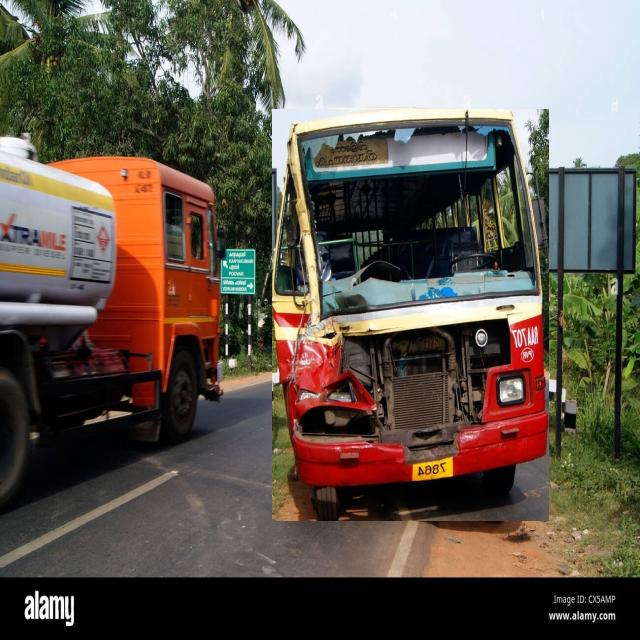accident: (272, 109, 549, 521)
truck: (0, 139, 219, 506)
